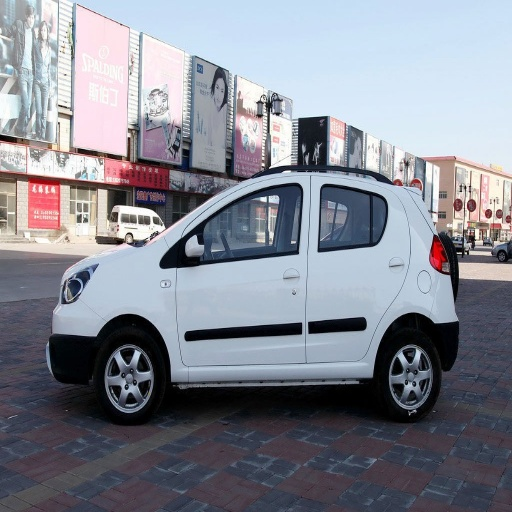back_left_door: (307, 185, 406, 362)
front_left_door: (176, 184, 306, 371)
